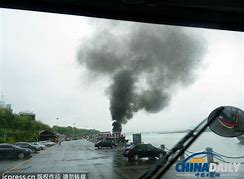smoke: (81, 28, 200, 125)
